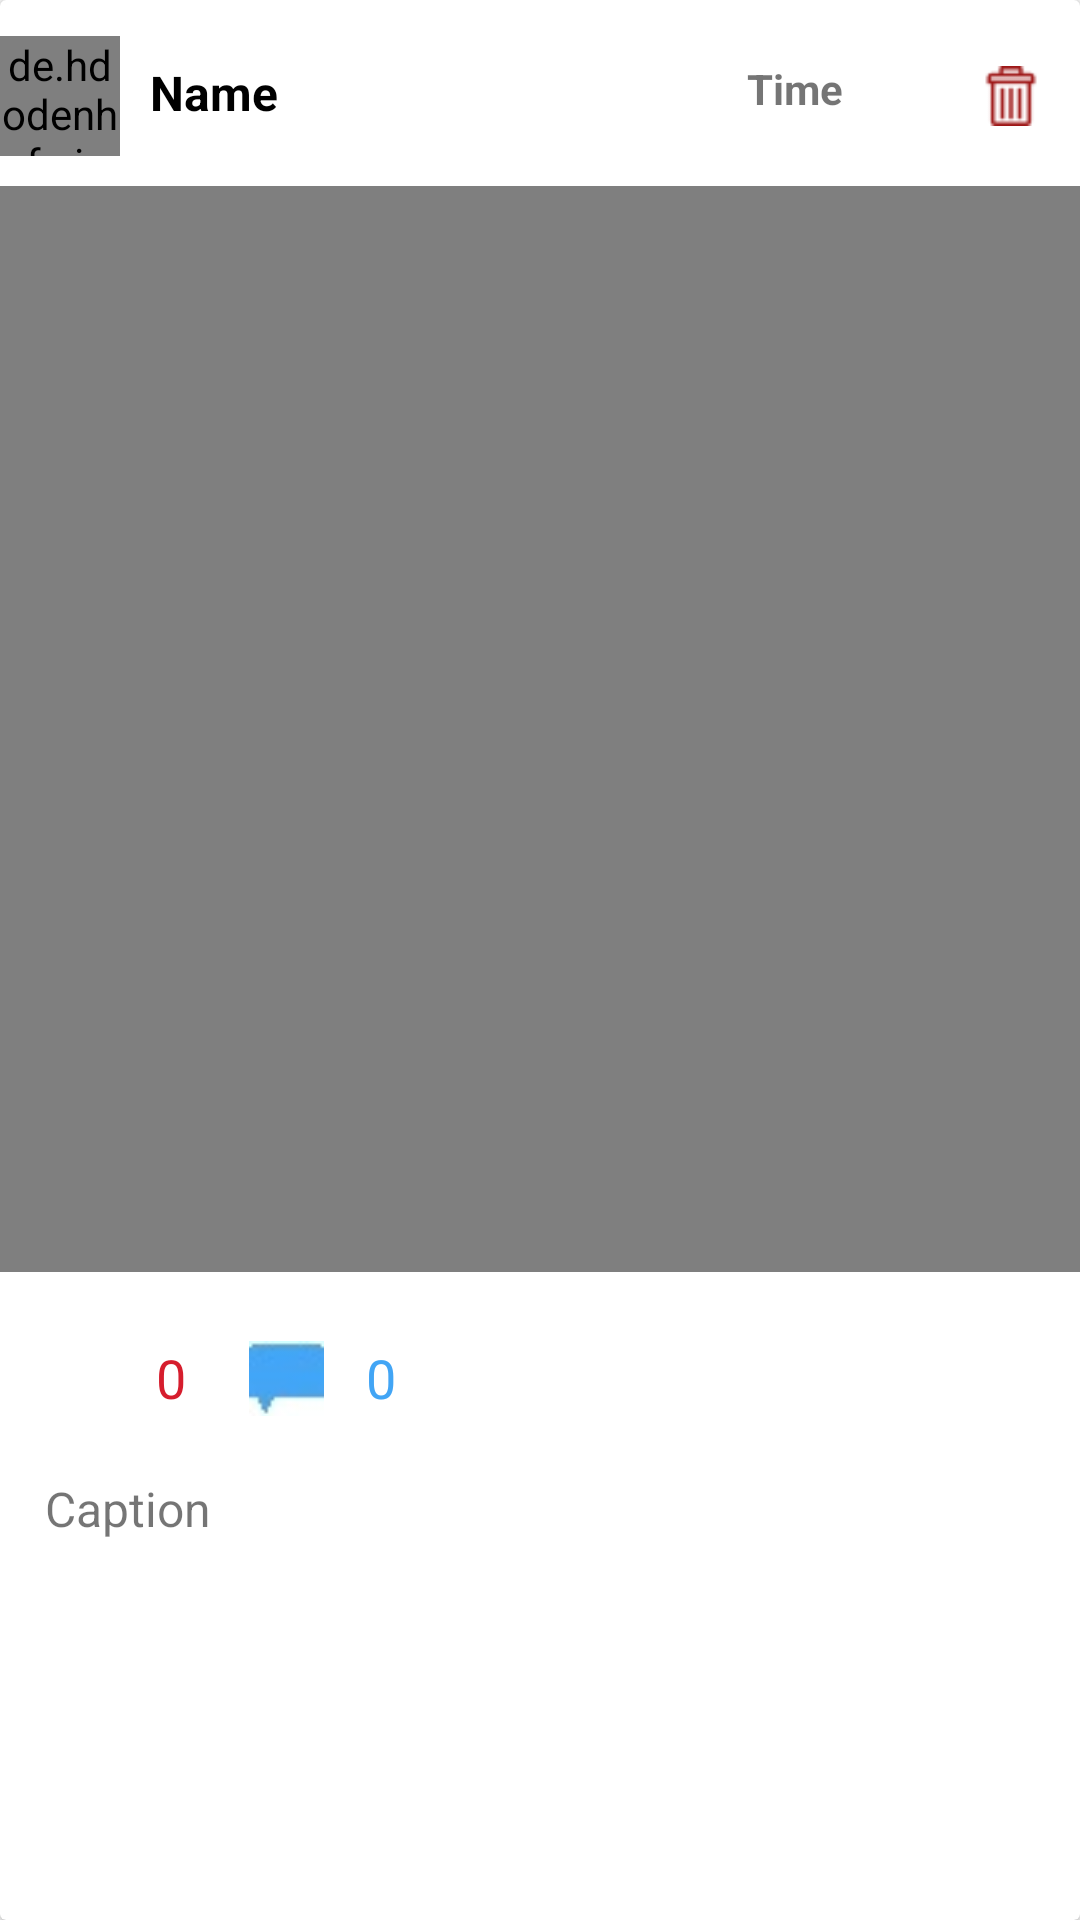

Screen size 1080 x 1920. Icon name, then its center in pixels as (x=x, y=y):
commment: (x=286, y=1377)
delete: (x=1011, y=96)
